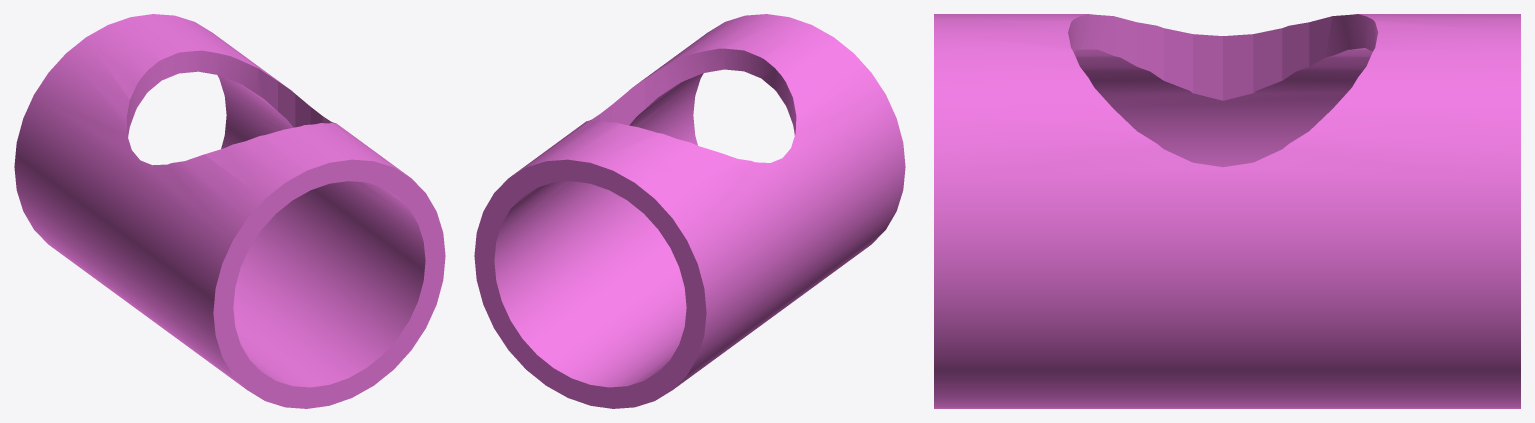
The model's file is yatayboru.fbx.
3 renders of one model, left to right at view 1: azimuth 30°, elevation 25°; view 2: azimuth 150°, elevation 25°; view 3: azimuth 270°, elevation 25°, orthographic. The views are drawn at different scales.
Parts seen in each view (by area): view 1: Cylinder; view 2: Cylinder; view 3: Cylinder.
Part boxes in pixels (bbox=[...]): Cylinder: bbox=[14, 14, 445, 408]; Cylinder: bbox=[474, 14, 905, 408]; Cylinder: bbox=[934, 14, 1520, 408].
Bounding box in the file's own units: 200 × 200 × 297.
